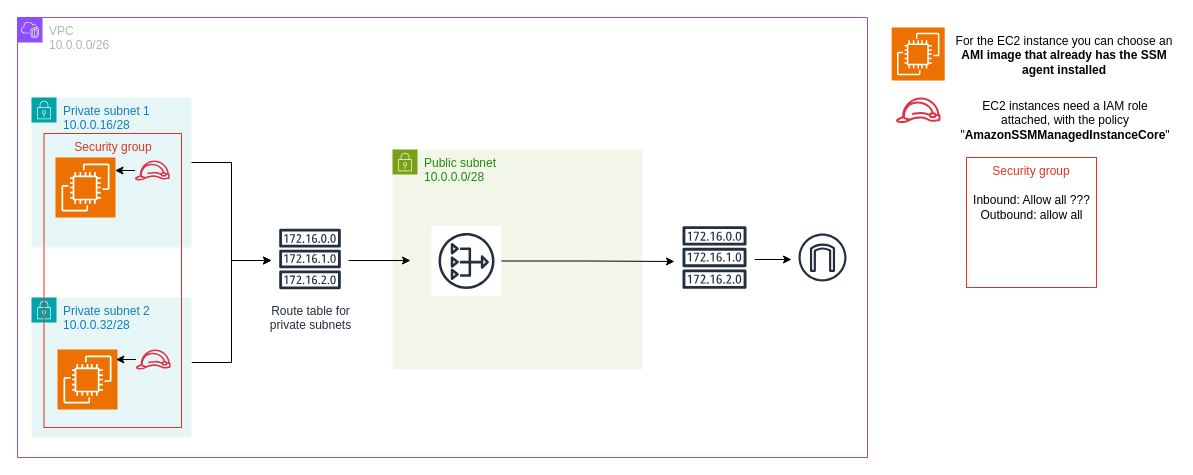
Some shapes in this 1193 by 475 pixel diagram are drawn without their labels. The centre of each missing label's shape, as x and y in pixels:
"Internet gateway" goes at pixel 822 257.
"NAT gateway Public IP 3.78.51.92 Private IP 10.0.0.5" goes at pixel 466 260.
"Route table for public subnet" goes at pixel 714 257.
